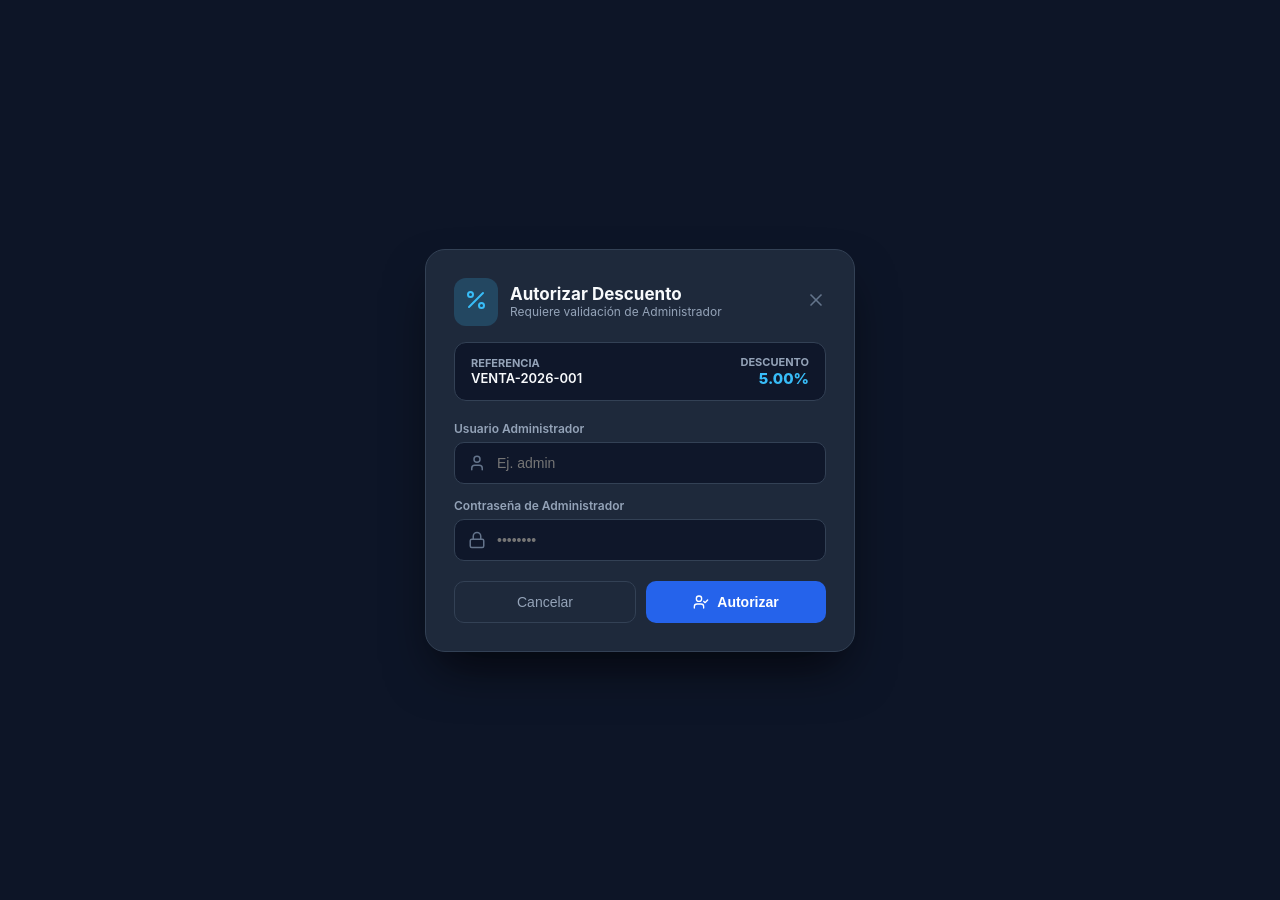
Scenario: AutorizarDescuentoModal Component (Vitest) › validates empty inputs without submitting
The image size is (1280, 900).
Click the button "Autorizar".
click(736, 602)  # box [646, 580, 826, 622]
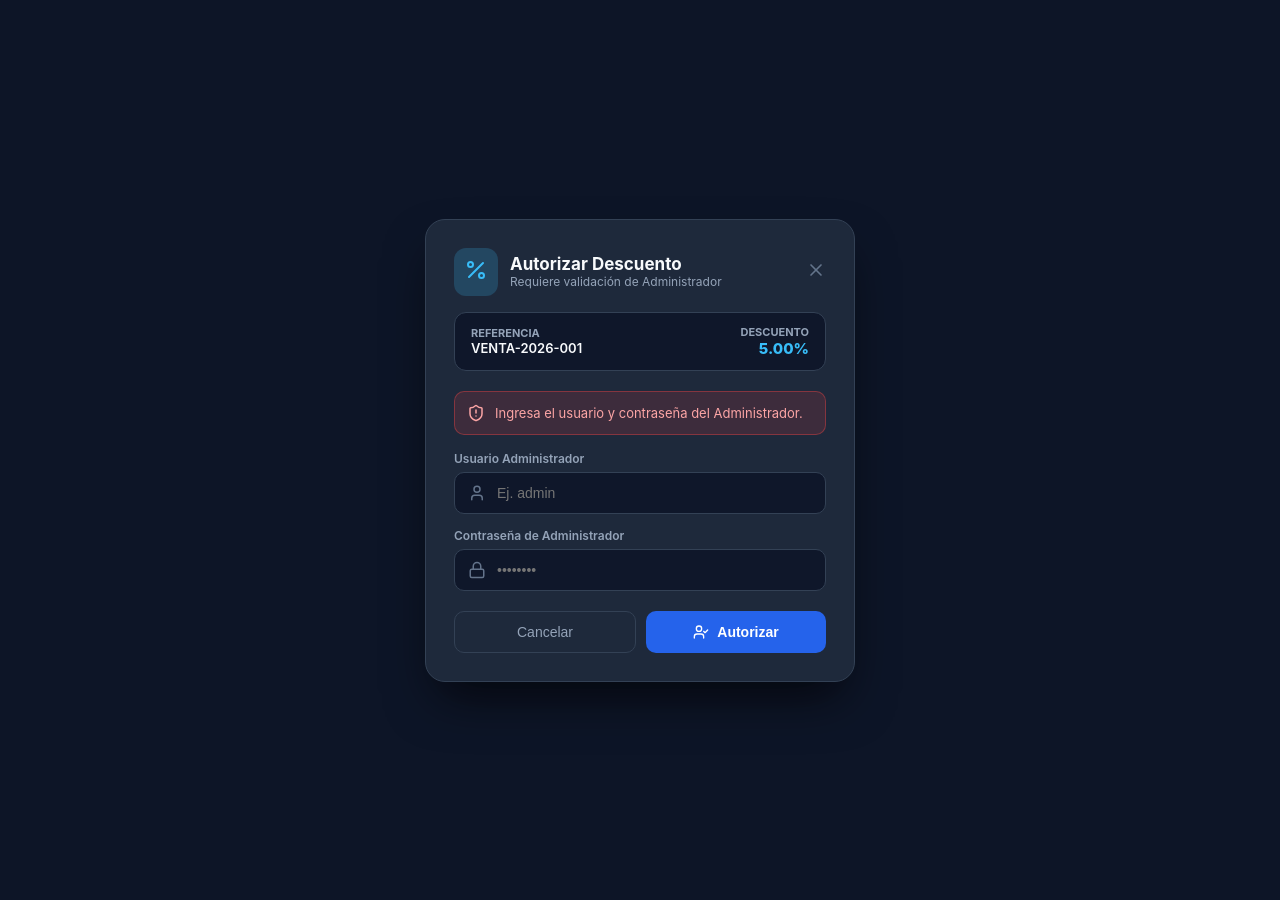
Result: the text "Ingresa el usuario y contraseña del Administrador." is shown at [495, 404, 803, 420]
